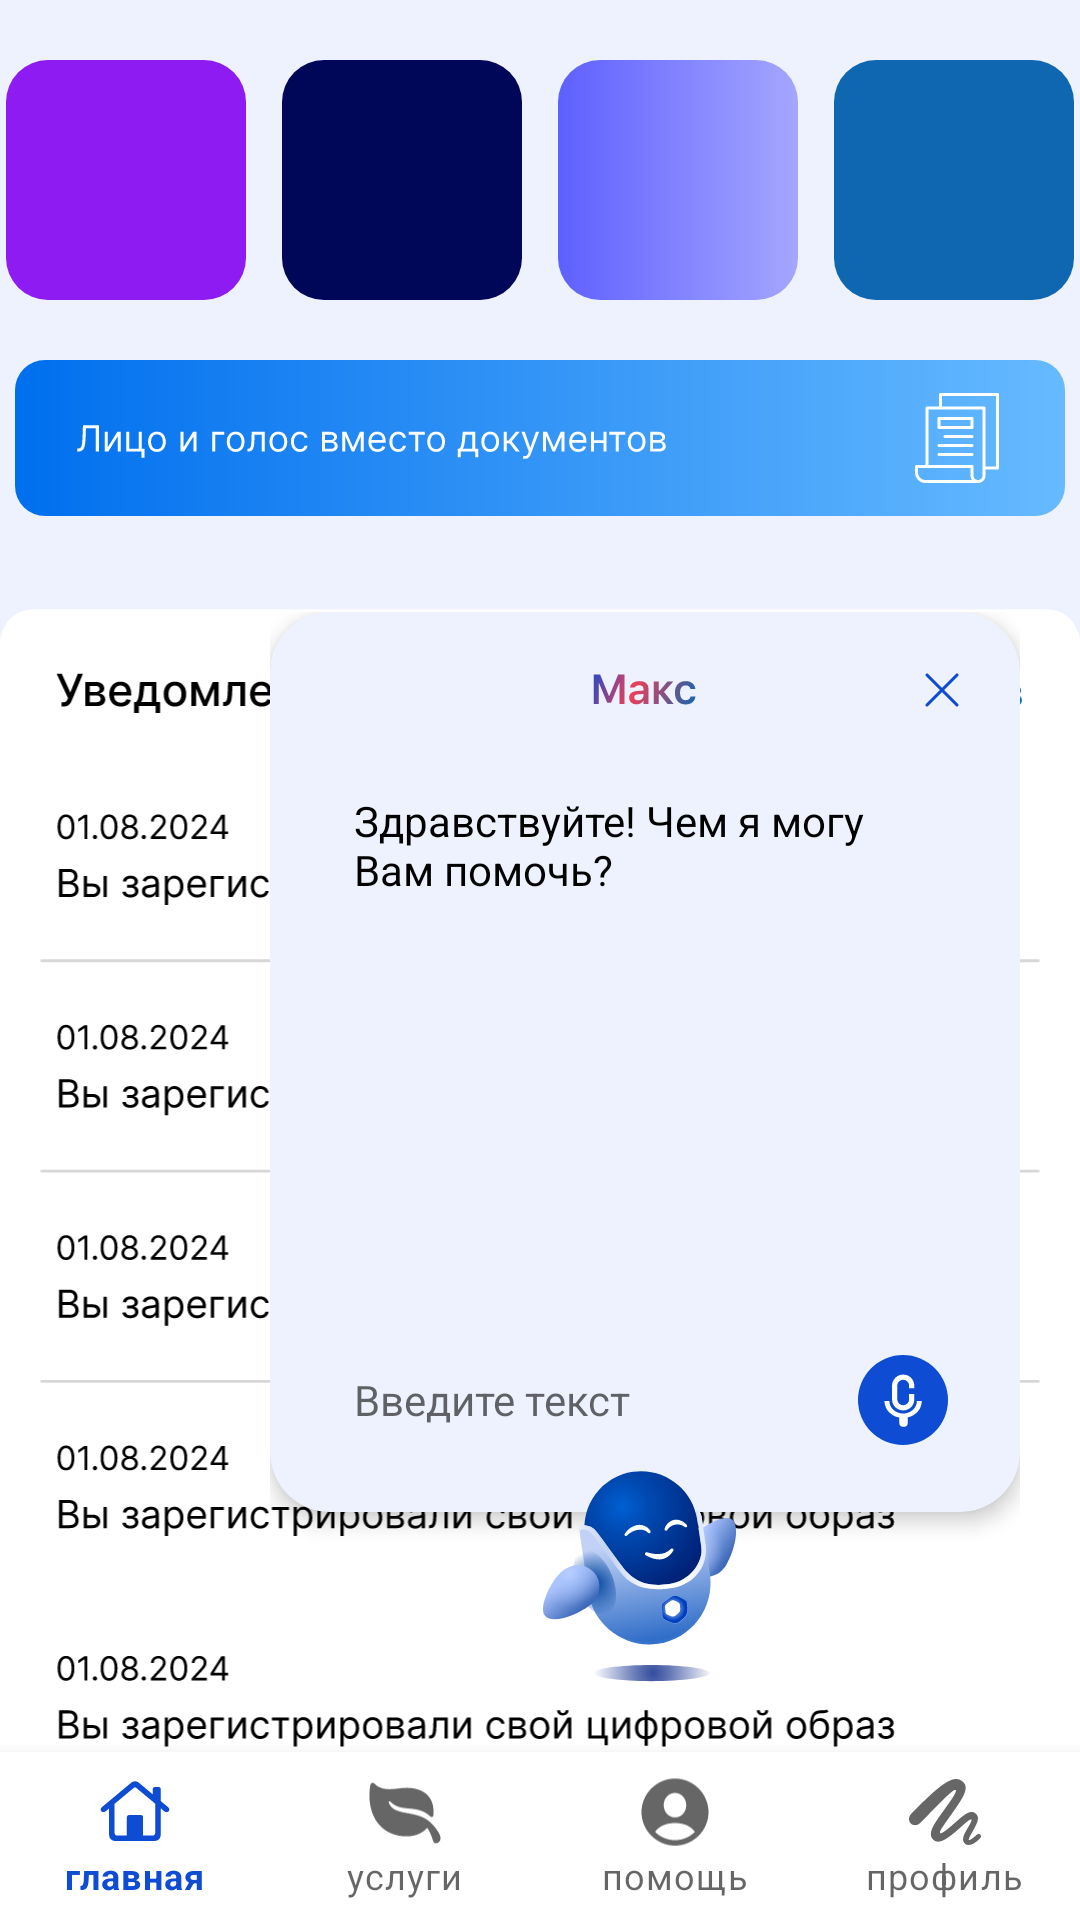

Screen size 1080 × 1920. Icon name, then its center in pixels as (x=x, y=y):
max cross: (x=942, y=690)
microphone: (x=903, y=1400)
